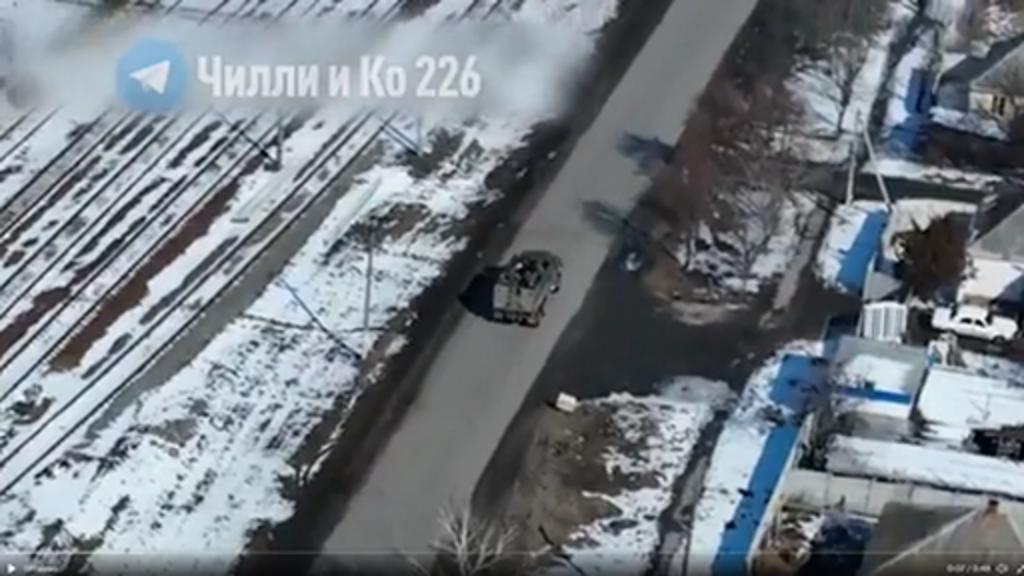TRUCK: (478, 240, 570, 326)
